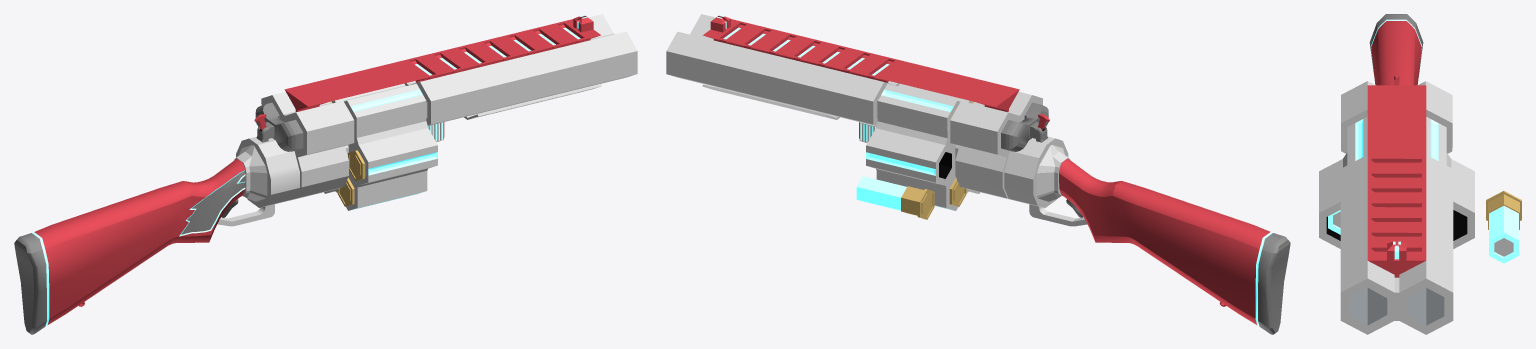
Rendered from canonx4.fbx.
3 views of the same model, side by side, from view 1: azimuth 30°, elevation 25°; view 2: azimuth 150°, elevation 25°; view 3: azimuth 270°, elevation 25° (orthographic). The views are drawn at different scales.
Parts seen in each view (by area): view 1: Remington870.001, Cercle.001, Cercle, Cercle.008, Cercle.002, Cercle.007, Cercle.003, Cercle.009; view 2: Remington870.001, Cercle.001, Cercle, Cercle.008, Cercle.002, Cercle.007, Cercle.006, Cercle.003, Cercle.009; view 3: Cercle.001, Cercle.008, Cercle, Remington870.001, Cercle.002, Cercle.006, Cercle.012.
Boxes of the visible parts, x1,y1,x2,y2 form: Remington870.001: (14,159,245,334); Cercle.001: (404,14,637,125); Cercle: (324,83,437,210); Cercle.008: (284,15,600,111); Cercle.002: (261,92,354,200); Cercle.007: (217,136,299,226); Cercle.003: (254,102,303,151); Cercle.009: (464,84,601,119); Remington870.001: (1059,158,1290,334); Cercle.001: (666,14,899,125); Cercle: (866,83,979,210); Cercle.008: (703,15,1019,112); Cercle.002: (950,92,1042,199); Cercle.007: (1004,136,1087,226); Cercle.006: (856,176,934,219); Cercle.003: (1001,102,1049,151); Cercle.009: (702,84,839,119); Cercle.001: (1340,155,1453,334); Cercle.008: (1367,85,1426,277); Cercle: (1319,117,1474,248); Remington870.001: (1369,14,1423,85); Cercle.002: (1341,81,1452,153); Cercle.006: (1486,191,1521,263); Cercle.012: (1328,210,1340,234).
Size of the model in its own units: 3065 by 892 by 739.
